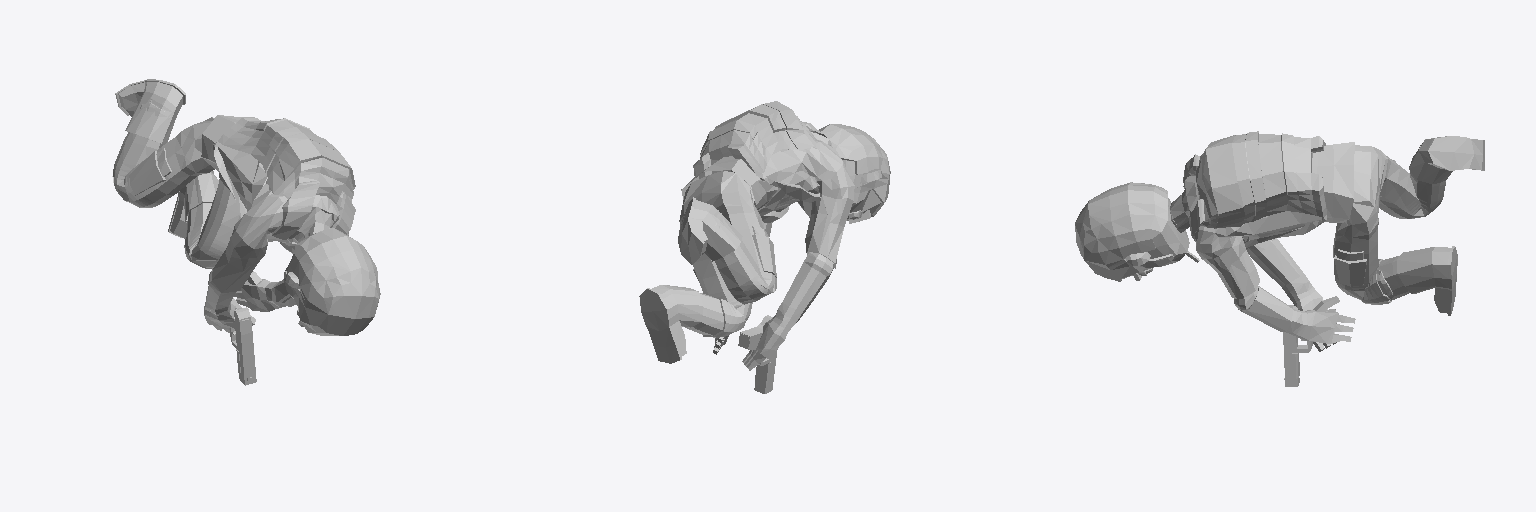
File: frame_0068.obj
3 renders of one model, left to right at view 1: azimuth 30°, elevation 25°; view 2: azimuth 150°, elevation 25°; view 3: azimuth 270°, elevation 25°, orthographic.
Parts seen in each view (by area): view 1: Body, Gun; view 2: Body, Gun; view 3: Body, Gun.
Boxes of the visible parts, x1=… form: Body: x1=112, y1=79, x2=380, y2=335; Gun: x1=230, y1=298, x2=256, y2=385; Body: x1=639, y1=101, x2=890, y2=370; Gun: x1=738, y1=315, x2=777, y2=393; Body: x1=1075, y1=131, x2=1484, y2=351; Gun: x1=1283, y1=305, x2=1336, y2=386.
Bounding box in the file's own units: 1.36 × 2.39 × 3.41.